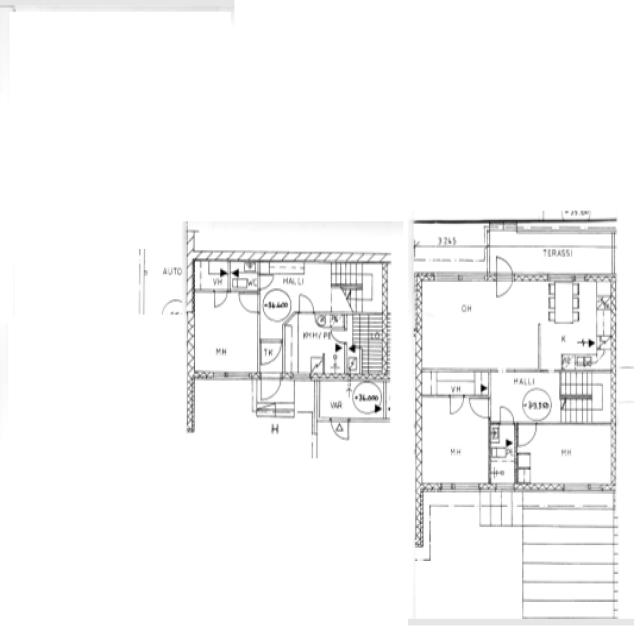door: (261, 339, 281, 365), (262, 374, 280, 402), (497, 253, 513, 281), (497, 272, 513, 299), (331, 417, 348, 442), (469, 398, 490, 418), (239, 293, 260, 312), (519, 422, 537, 444), (299, 294, 314, 314), (450, 393, 464, 412), (500, 406, 514, 424), (257, 274, 272, 288), (214, 289, 227, 305), (334, 330, 347, 343)
